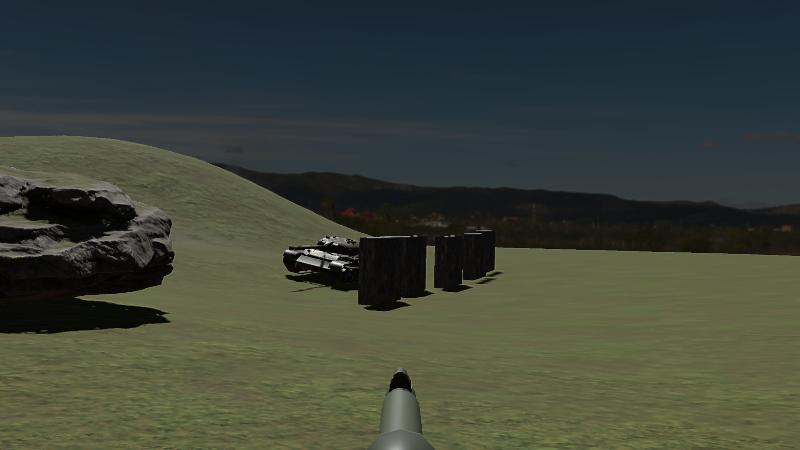Tank: (281, 232, 427, 293)
